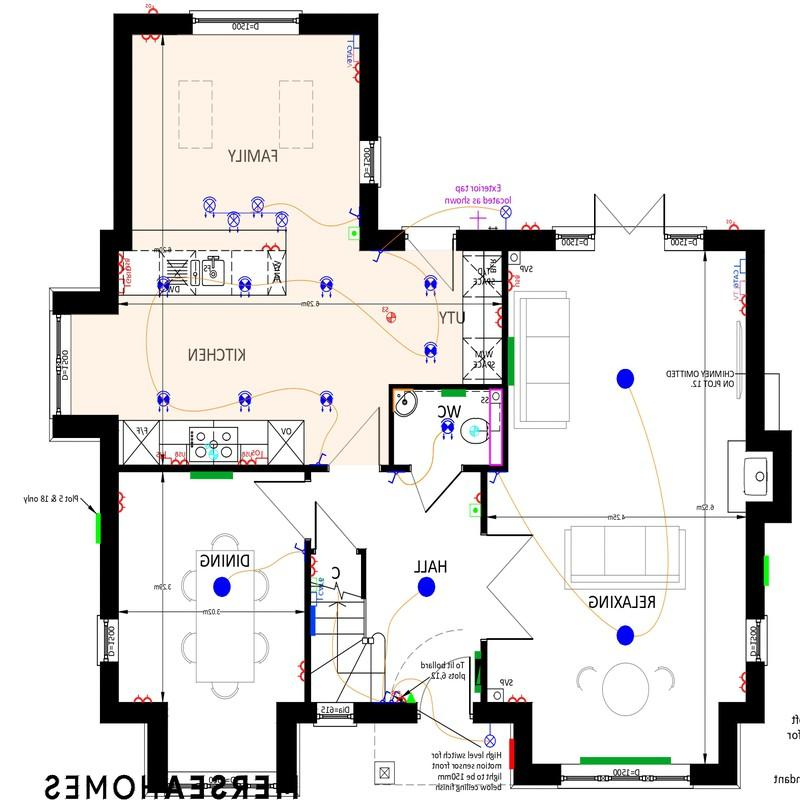BT Entry Point: (406, 686, 419, 704)
Cat 6 Data Socket: (328, 34, 362, 48), (306, 590, 334, 605), (726, 255, 747, 274)
Ceiling Mounted Continuous Extract Fan With Boost Mode Activated By Light Switch: (468, 420, 482, 441)
Ceiling Mounted Continuous Extract Fan With Local Boost Switch: (378, 302, 401, 328)
Co-Ax TV Socket: (338, 46, 360, 64), (728, 278, 746, 296)
Consumer Unit: (474, 655, 483, 687)
Double Socket: (135, 31, 169, 45), (129, 691, 157, 705), (521, 215, 545, 231), (344, 62, 361, 83), (311, 553, 325, 578), (295, 653, 305, 687), (116, 489, 128, 516), (737, 665, 748, 694), (506, 691, 528, 703), (492, 305, 502, 331), (262, 239, 282, 251), (738, 295, 747, 320)
Electric Meter Box: (506, 734, 516, 775)
External Wall Light: (480, 720, 503, 750), (495, 202, 519, 230)
Gas Meter Box: (93, 507, 101, 550), (763, 554, 771, 588)
Grid Switch: (116, 273, 133, 296)
Hob Switch: (155, 447, 174, 466)
Light Switch: (343, 203, 362, 225), (385, 470, 402, 489), (370, 250, 388, 267), (487, 470, 506, 486), (291, 537, 304, 558), (311, 451, 329, 465), (374, 687, 390, 702), (390, 683, 399, 703)
Low Energy Downlighter: (312, 271, 344, 305), (313, 384, 339, 423), (232, 384, 259, 420), (416, 265, 442, 300), (231, 270, 258, 303), (436, 410, 462, 444), (421, 335, 443, 369), (152, 383, 174, 415), (153, 272, 174, 303)
Low Energy Pendant Light: (409, 568, 441, 605), (606, 363, 639, 395), (613, 619, 638, 649), (209, 573, 237, 599)
Outside Socket: (723, 215, 747, 232), (143, 3, 163, 16)
Outside Tap: (467, 208, 491, 231)
Oven Switch: (254, 447, 271, 465)
Programmable Room Thermostat: (465, 501, 482, 520), (345, 227, 360, 246)
Radiator: (574, 752, 677, 765), (505, 331, 523, 389), (471, 645, 483, 697), (435, 386, 472, 399)
Recirculating Extractor Fan: (200, 439, 225, 463)
Single Socket: (468, 487, 483, 504), (397, 688, 407, 703)
Telephone Socket: (309, 577, 331, 591)
Track Light: (200, 190, 294, 232)
USB Double Socket: (507, 267, 525, 295), (117, 250, 136, 273), (237, 448, 256, 466), (173, 451, 189, 467)
Underfloor Heating Manifold: (308, 601, 320, 639)
